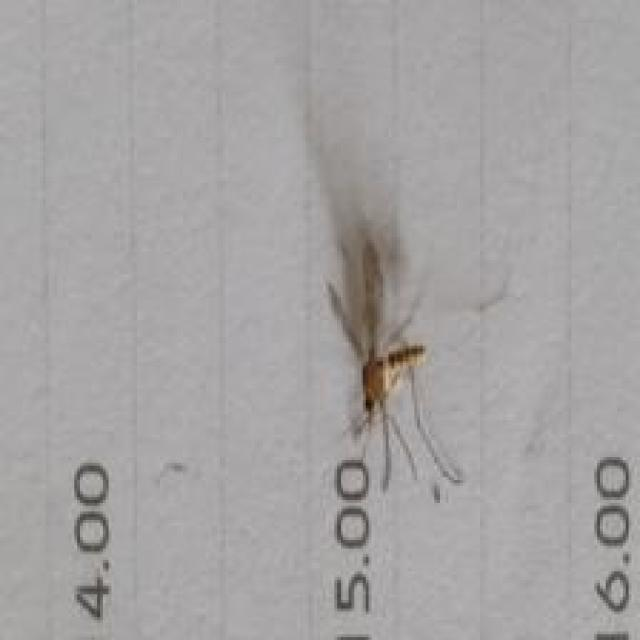Culex: (323, 223, 466, 500)
